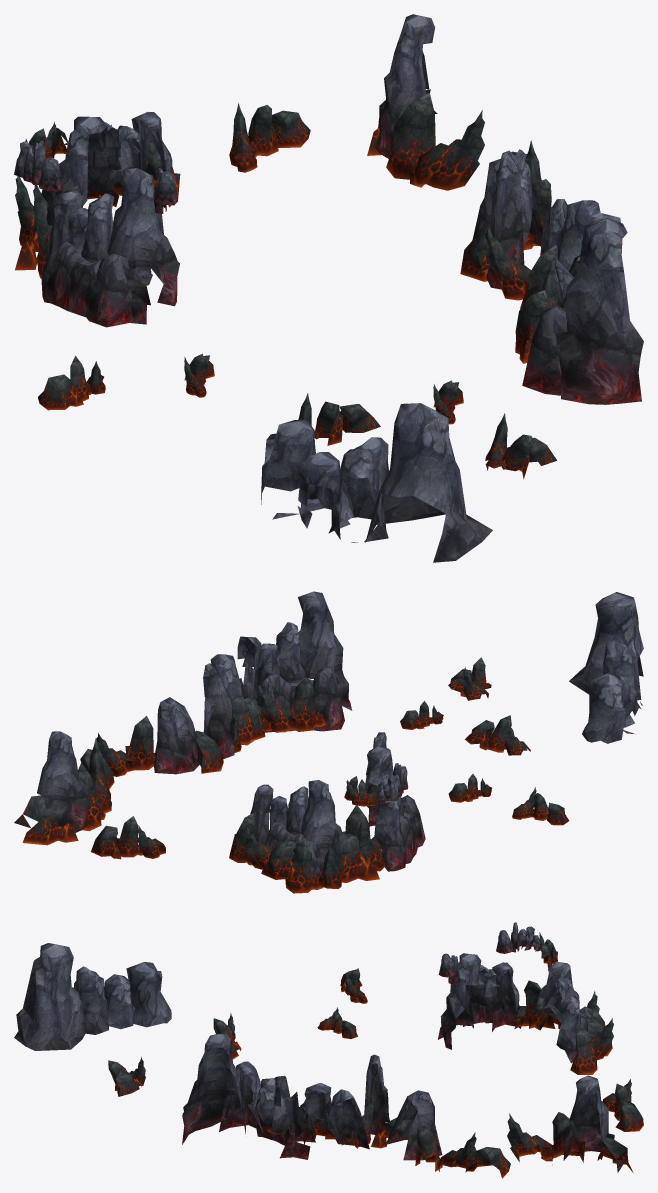
The model's file is volcano_02_stone_02.FBX.
The picture shows the model from 3 angles, top to bottom: view 1: azimuth 30°, elevation 25°; view 2: azimuth 150°, elevation 25°; view 3: azimuth 270°, elevation 25°; orthographic projection. The views are drawn at different scales.
Visible parts, largest first — view 1: stone02; view 2: stone02; view 3: stone02.
Boxes of the visible parts, <box> form: stone02: <box>14,14,643,562</box>; stone02: <box>14,591,643,893</box>; stone02: <box>14,922,643,1178</box>.
Size of the model in its own units: 134 by 37.15 by 185.
